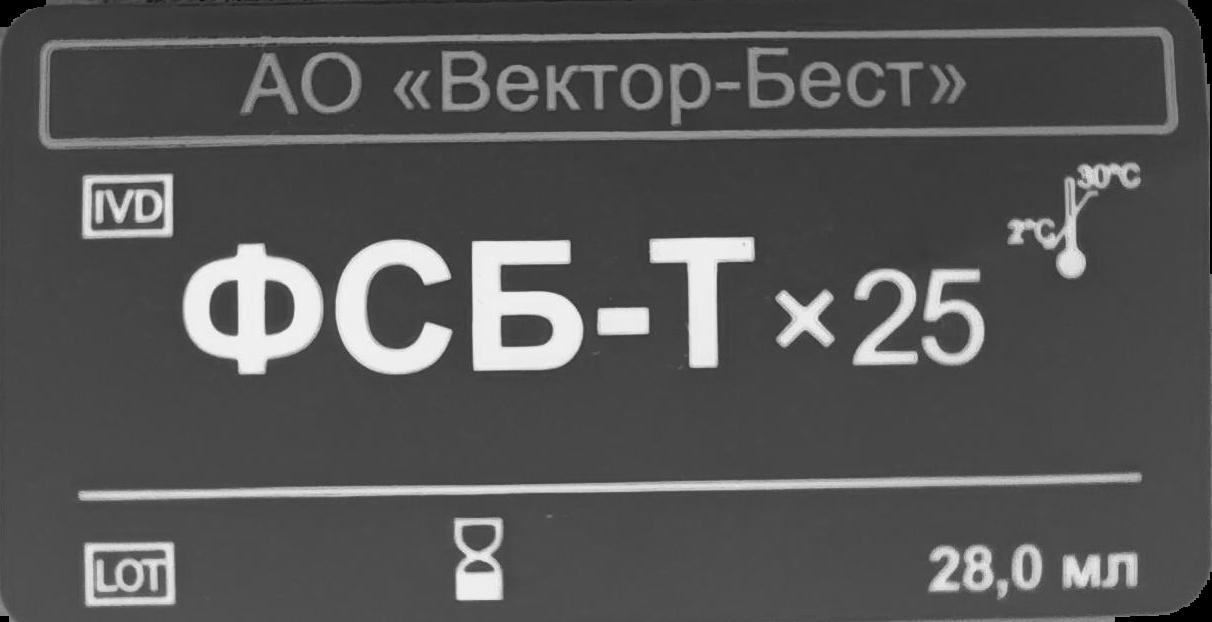something: (1005, 164, 1147, 285), (81, 538, 185, 612), (79, 171, 177, 242), (450, 513, 512, 603)
text: (179, 238, 991, 375), (236, 49, 968, 127), (920, 539, 1146, 599)
